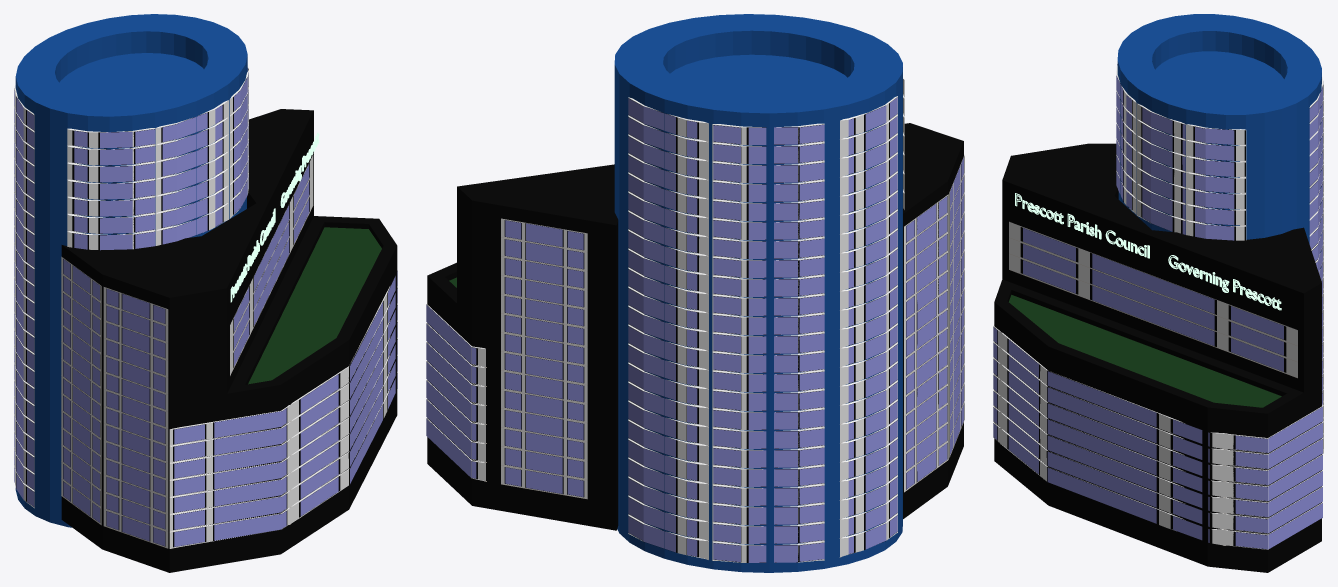
File: PrescottParishCouncilHQ.fbx
3 renders of one model, left to right at view 1: azimuth 30°, elevation 25°; view 2: azimuth 150°, elevation 25°; view 3: azimuth 270°, elevation 25°, orthographic. The views are drawn at different scales.
Parts seen in each view (by area): view 1: PrescottParishCouncilHQ, TheOval, Window.011, Window.009, Window.008, Window.003, Window.010, Window.004, Window.002, Window.007, Window.005, Text (+1 smaller); view 2: TheOval, Window.001, PrescottParishCouncilHQ, Window, Window.002, Window.013, Window.010, Window.012, Window.011; view 3: PrescottParishCouncilHQ, TheOval, Window.008, Window.007, Window.012, Window.006, Window.005, Window, Window.004, Text, Text.001, Window.009.
Part boxes in pixels (x1,y1,x2,y2): PrescottParishCouncilHQ: (61, 109, 397, 572); TheOval: (15, 14, 247, 527); Window.011: (103, 287, 168, 548); Window.009: (169, 404, 290, 548); Window.008: (290, 271, 397, 523); Window.003: (67, 128, 155, 250); Window.010: (61, 256, 101, 525); Window.004: (155, 100, 228, 245); Window.002: (14, 85, 34, 508); Window.007: (230, 155, 313, 375); Window.005: (229, 70, 248, 218); Text: (230, 208, 275, 302); TheOval: (614, 14, 902, 572); Window.001: (712, 123, 824, 562); PrescottParishCouncilHQ: (427, 123, 963, 530); Window: (628, 97, 708, 559); Window.002: (839, 96, 897, 557); Window.013: (501, 218, 587, 499); Window.010: (904, 194, 948, 492); Window.012: (426, 304, 486, 481); Window.011: (949, 155, 964, 457); PrescottParishCouncilHQ: (994, 143, 1321, 572); TheOval: (1117, 14, 1321, 268); Window.008: (1000, 332, 1225, 545); Window.007: (1009, 221, 1297, 378); Window.012: (1223, 404, 1322, 549); Window.006: (1186, 124, 1246, 240); Window.005: (1137, 103, 1185, 234); Window: (1309, 77, 1323, 453); Window.004: (1116, 65, 1136, 214); Text: (1015, 193, 1149, 258); Text.001: (1168, 255, 1281, 310); Window.009: (993, 324, 1000, 444).
Bounding box in the file's own units: 4808 × 4935 × 3797.
